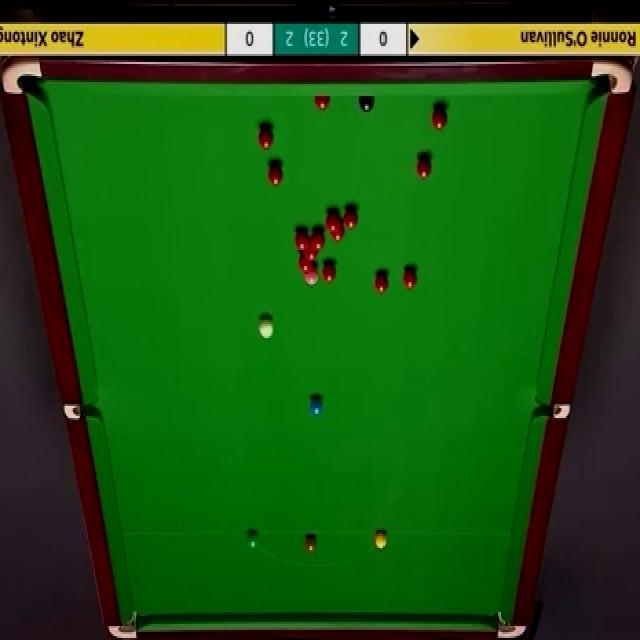black-ball: (359, 95, 375, 114)
blue-ball: (310, 394, 324, 416)
brown-ball: (305, 532, 316, 551)
green-ball: (242, 530, 258, 550)
pink-ball: (304, 273, 320, 288)
red-ball: (430, 104, 448, 132), (257, 126, 274, 152), (343, 206, 360, 231), (268, 160, 283, 186), (403, 267, 419, 291), (325, 209, 341, 233), (415, 156, 431, 179), (374, 272, 389, 294), (311, 228, 326, 250), (322, 263, 337, 284), (314, 94, 331, 112), (294, 230, 309, 249), (298, 256, 314, 272), (330, 228, 346, 242), (304, 249, 318, 261)
white-ball: (256, 316, 273, 341)
yellow-ball: (374, 532, 388, 551)
